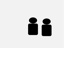human: (27, 16, 38, 35), (41, 17, 52, 36)
